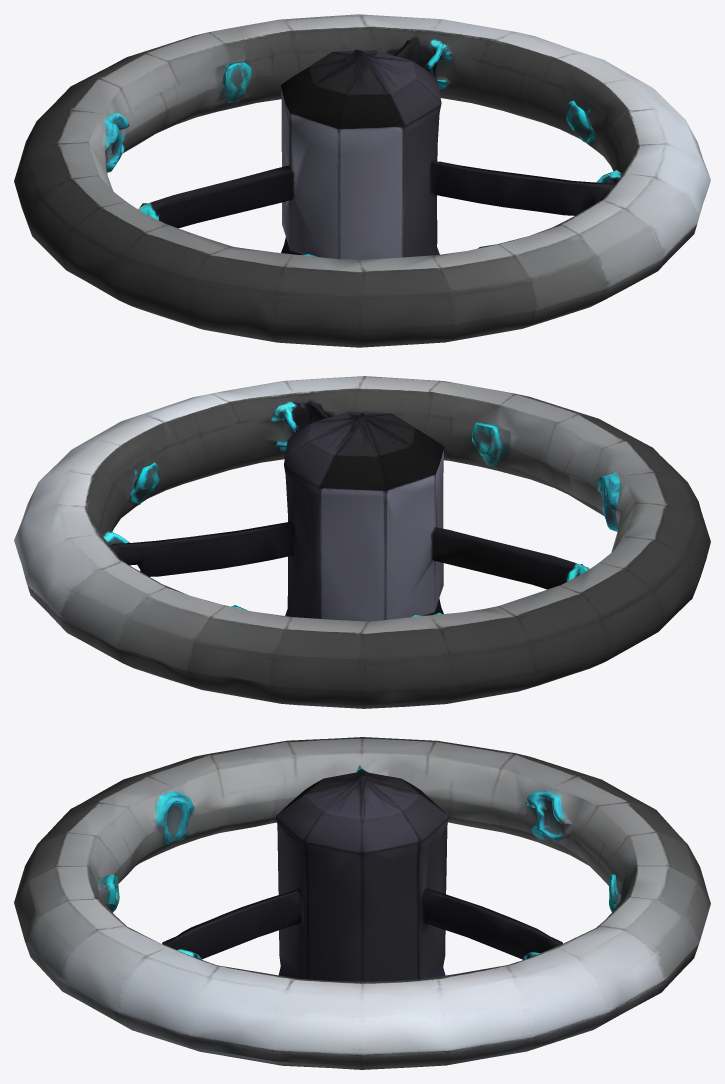
Rendered from habitat_ring.glb.
3 views of the same model, one above another, from view 1: azimuth 30°, elevation 25°; view 2: azimuth 150°, elevation 25°; view 3: azimuth 270°, elevation 25° (orthographic).
Parts seen in each view (by area): view 1: world; view 2: world; view 3: world.
Part boxes in pixels (x1=…): world: x1=14, y1=14, x2=710, y2=347; world: x1=14, y1=376, x2=710, y2=708; world: x1=14, y1=737, x2=710, y2=1069.
Size of the model in its own units: 0.9996 by 0.4624 by 0.9993.
Materials: 1 (1 with a texture image).
